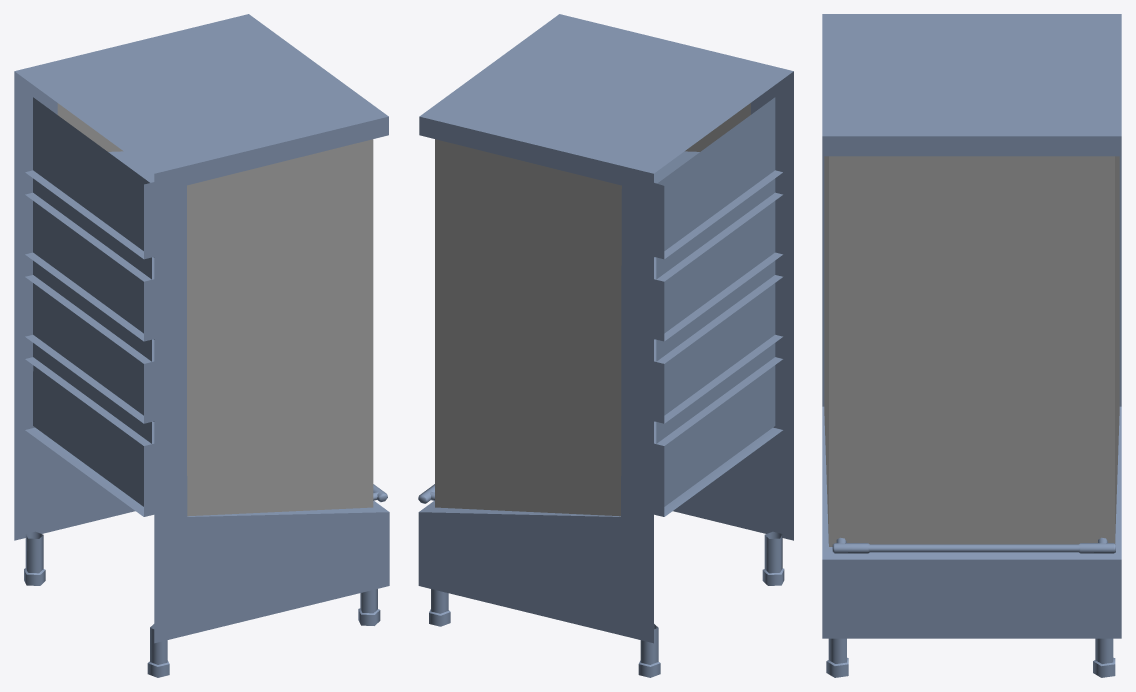
File: Burger_glass.fbx
3 renders of one model, left to right at view 1: azimuth 30°, elevation 25°; view 2: azimuth 150°, elevation 25°; view 3: azimuth 270°, elevation 25°, orthographic. The views are drawn at different scales.
Visible parts, largest first — view 1: polySurface4; view 2: polySurface4; view 3: polySurface4.
Part boxes in pixels (bbox=[...]): polySurface4: bbox=[14, 14, 389, 677]; polySurface4: bbox=[418, 14, 793, 677]; polySurface4: bbox=[822, 14, 1121, 677].
Size of the model in its own units: 98.68 by 200 by 100.
